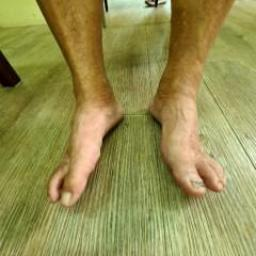Front View -Both Feet-: (35, 50, 238, 223)
